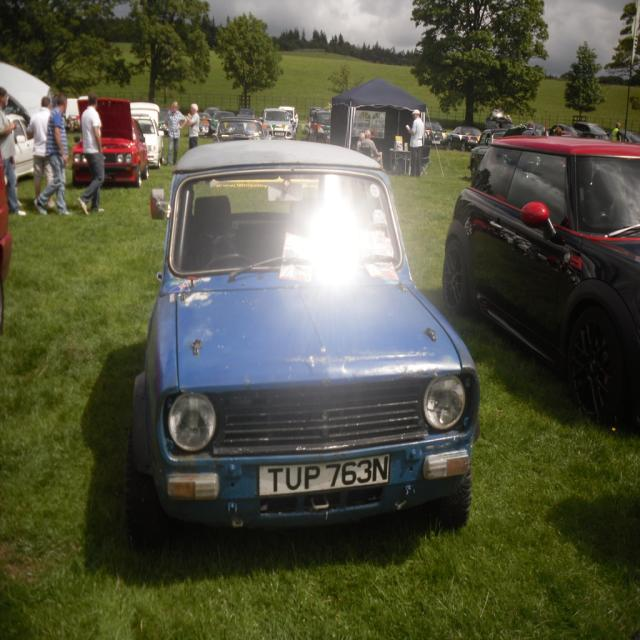car: (128, 145, 488, 526)
